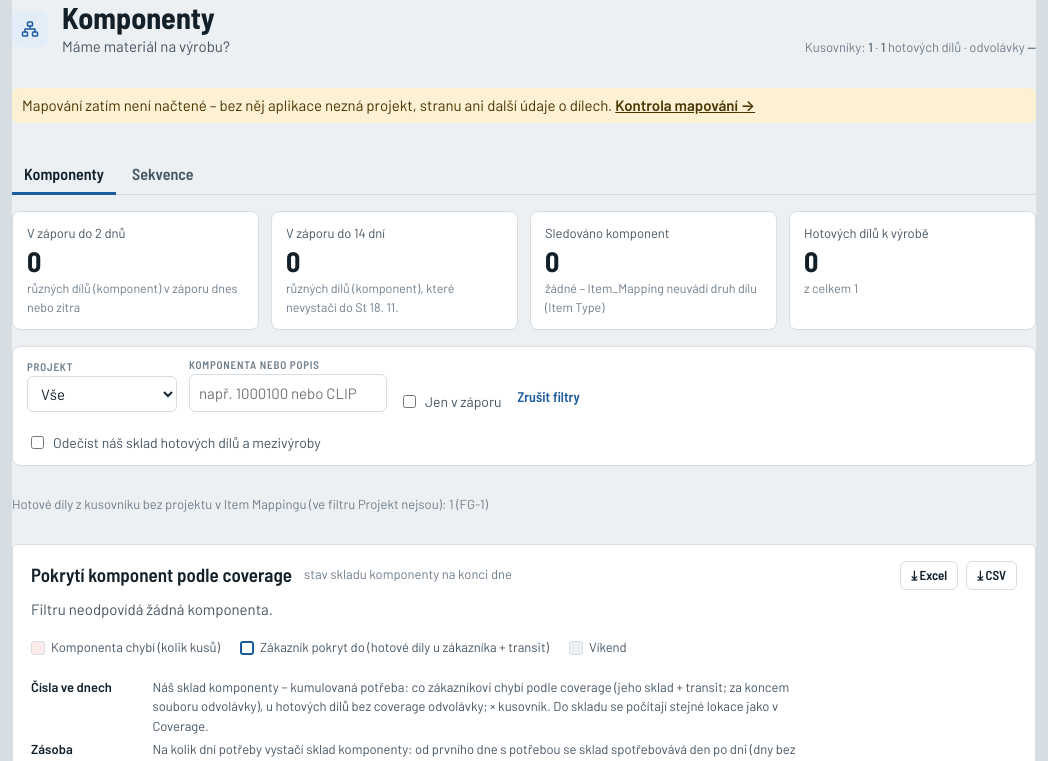
Test: Komponenty – karta Sekvence › MC u SR1, SR1-HT, TPO a TPO-HT: jen modrý štítek MC, do zásoby se nepočítá
This screenshot has width=1048, height=761.
Click the tab "Sekvence": (163, 174) [120, 154, 206, 195]
(page scrolled)
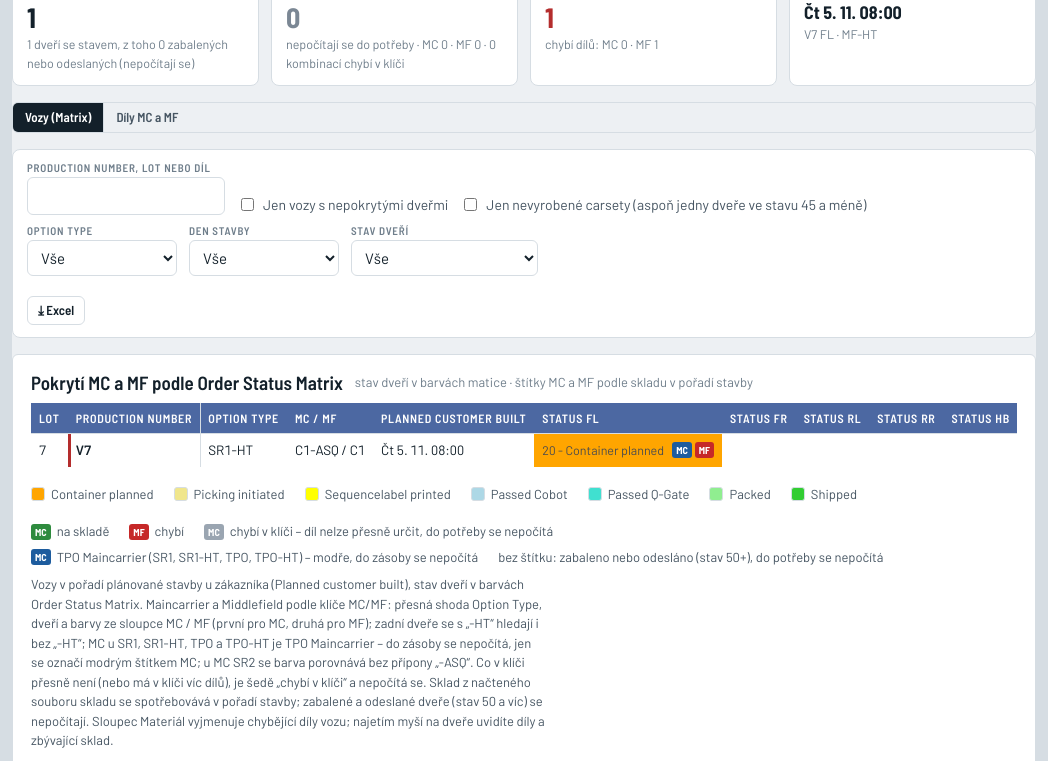
Expected: the text "chybí dílů: MC 0 · MF 1" is shown, [545, 36, 658, 52]
Expected: the text "nepočítají se do potřeby · MC 0 · MF 0 · 0 kombinací chybí v klíči" is shown, [286, 35, 503, 73]
Expected: the list item "TPO Maincarrier (SR1, SR1-HT, TPO, TPO-HT) – modře, do zásoby se nepočítá" is shown, [57, 549, 478, 565]
